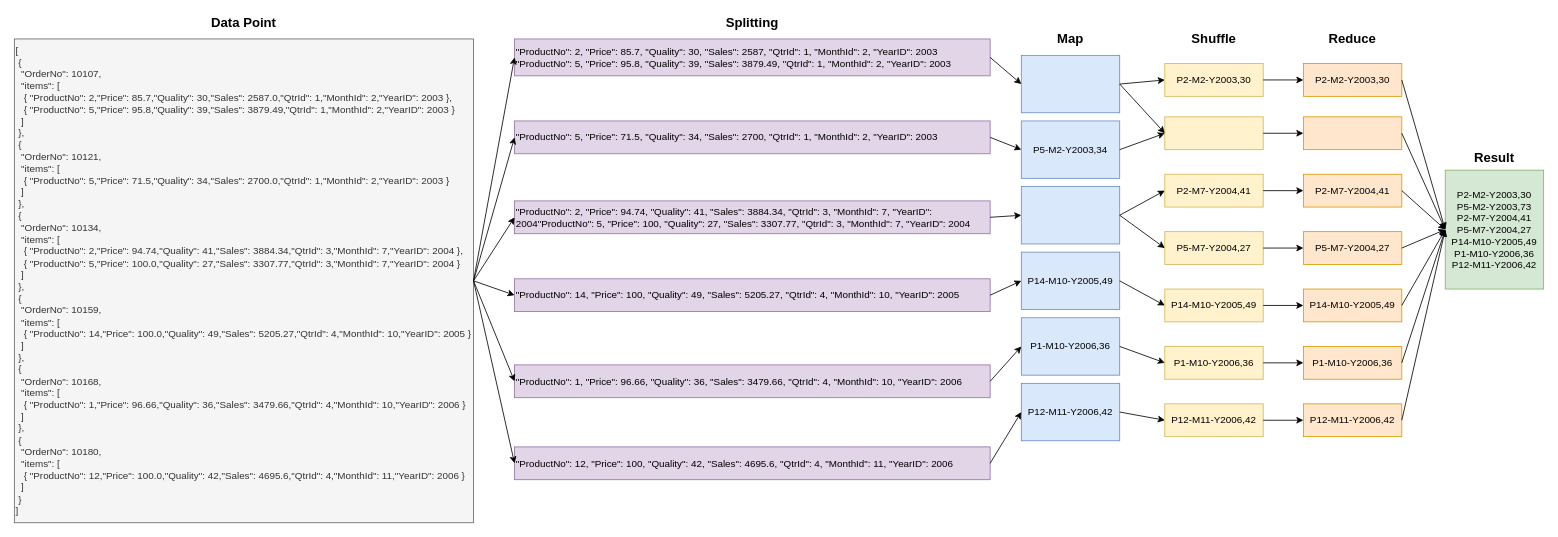
This 1558x537 diagram has some shape labels left out. The centre of each missing label's shape, as x and y in pixels:
P2-M2-Y2003,30 P5-M2-Y2003, 39: (1070,84)
P2-M7-Y2004,41 P5-M7-Y2004,27: (1070,215)
P5-M2-Y2003, 39 P5-M2-Y2003,34: (1213,133)
P5-M2-Y2003,73: (1352,133)
